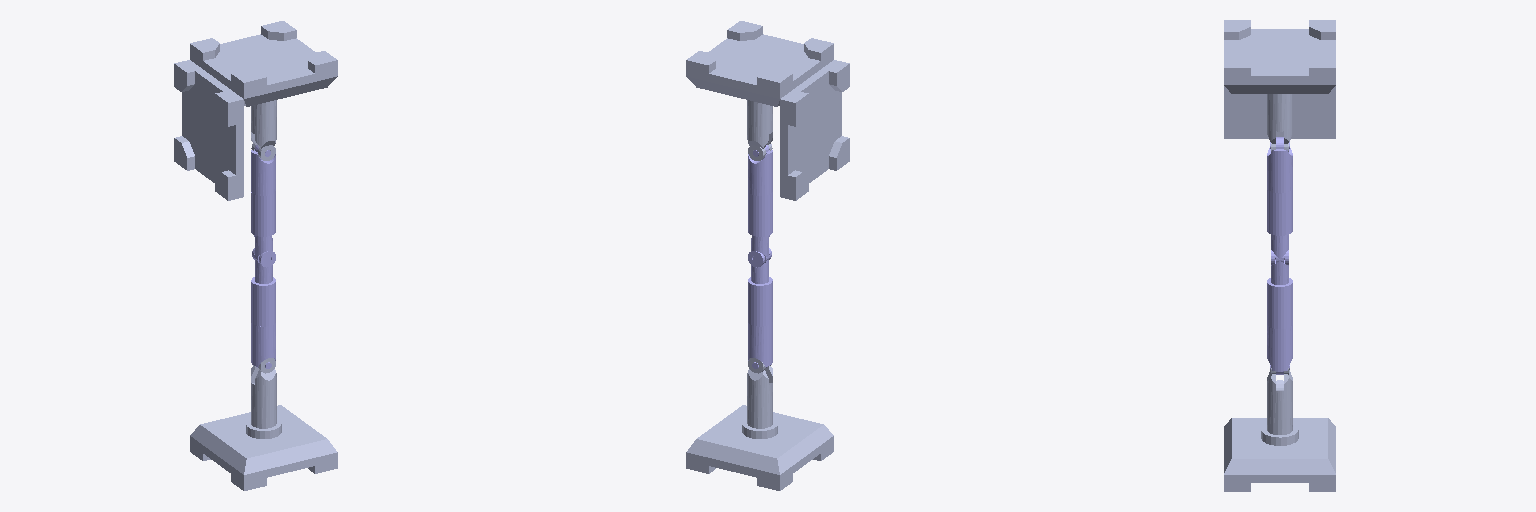
URDF robot description (carry_arm):
<?xml version="1.0" encoding="utf-8"?>
<!-- This URDF was automatically created by SolidWorks to URDF Exporter! Originally created by Stephen Brawner (brawner@gmail.com) 
     Commit Version: 1.6.0-4-g7f85cfe  Build Version: 1.6.7995.38578
     For more information, please see http://wiki.ros.org/sw_urdf_exporter -->
<robot
  name="carry_arm">
  <link name="dummy">
    <inertial>
      <origin xyz="0 0 0" rpy="0 0 0" />
      <mass value="1" />
      <inertia ixx="1e-9" ixy="0" ixz="0" iyy="1e-9" iyz="0" izz="1e-9" />
    </inertial>
  </link>
  <link
    name="arm0_link">
    <inertial>
      <origin
        xyz="-0.012377 -0.020974 0.016204"
        rpy="0 0 0" />
      <mass
        value="0.17426" />
      <inertia
        ixx="0.0002445"
        ixy="-7.8656E-22"
        ixz="9.2644E-20"
        iyy="0.0004811"
        iyz="8.1429E-19"
        izz="0.0002445" />
    </inertial>
    <visual>
      <origin
        xyz="0 0 0"
        rpy="0 0 0" />
      <geometry>
        <mesh
          filename="arm0_link.STL" />
      </geometry>
      <material
        name="">
        <color
          rgba="0.79216 0.81961 0.93333 1" />
      </material>
    </visual>
    <collision>
      <origin
        xyz="0 0 0"
        rpy="0 0 0" />
      <geometry>
        <mesh
          filename="arm0_link.STL" />
      </geometry>
    </collision>
  </link>
  <joint name="dymmy_joint" type="fixed"> 
    <origin
      xyz="0.012377 0.016204 0.014238"
      rpy="0 0 0" />
    <parent
      link="dummy" />
    <child
      link="arm0_link" />
  </joint>
  <link
    name="arm1_link">
    <inertial>
      <origin
        xyz="-1.259E-11 0.016476 2.6113E-11"
        rpy="0 0 0" />
      <mass
        value="0.2407" />
      <inertia
        ixx="0.00031084"
        ixy="1.0013E-13"
        ixz="8.9599E-12"
        iyy="0.00040073"
        iyz="-4.7186E-13"
        izz="0.0003106" />
    </inertial>
    <visual>
      <origin
        xyz="0 0 0"
        rpy="1.5708 0 0" />
      <geometry>
        <mesh
          filename="arm1_link.STL" />
      </geometry>
      <material
        name="">
        <color
          rgba="0.79216 0.81961 0.93333 1" />
      </material>
    </visual>
    <collision>
      <origin
        xyz="0 0 0"
        rpy="1.5708 0 0" />
      <geometry>
        <mesh
          filename="arm1_link.STL" />
      </geometry>
    </collision>
  </link>
  <joint
    name="arm1_joint"
    type="continuous">
    <origin
      xyz="-0.012377 -0.016204 -0.014238"
      rpy="0 0 0" />
    <parent
      link="arm0_link" />
    <child
      link="arm1_link" />
    <axis
      xyz="0 0 1" />
  </joint>
  <link
    name="arm2_link">
    <inertial>
      <origin
        xyz="3.7309E-05 0.059852 3.1191E-09"
        rpy="0 0 0" />
      <mass
        value="0.069332" />
      <inertia
        ixx="2.9097E-05"
        ixy="-9.6545E-08"
        ixz="-1.8985E-12"
        iyy="6.3303E-06"
        iyz="-5.3135E-12"
        izz="2.9192E-05" />
    </inertial>
    <visual>
      <origin
        xyz="0 0 0"
        rpy="1.5708 0 0" />
      <geometry>
        <mesh
          filename="arm2_link.STL" />
      </geometry>
      <material
        name="">
        <color
          rgba="0.75294 0.75294 1 1" />
      </material>
    </visual>
    <collision>
      <origin
        xyz="0 0 0"
        rpy="1.5708 0 0" />
      <geometry>
        <mesh
          filename="arm2_link.STL" />
      </geometry>
    </collision>
  </link>
  <joint
    name="arm2_joint"
    type="continuous">
    <origin
      xyz="0 0 0.1"
      rpy="0 0 0" />
    <parent
      link="arm1_link" />
    <child
      link="arm2_link" />
    <axis
      xyz="0 1 0" />
  </joint>
  <link
    name="arm3_link">
    <inertial>
      <origin
        xyz="-0.000482917389346194 -0.0696640474343872 2.71894506215231E-09"
        rpy="0 0 0" />
      <mass
        value="0.0698090885612059" />
      <inertia
        ixx="2.99472481620794E-05"
        ixy="-1.06390115585764E-07"
        ixz="-4.01944454880557E-13"
        iyy="6.20988850427198E-06"
        iyz="-4.49828166769348E-12"
        izz="3.01404678861509E-05" />
    </inertial>
    <visual>
      <origin
        xyz="0 0 0"
        rpy="-1.5708 0 0" />
      <geometry>
        <mesh
          filename="arm3_link.STL" />
      </geometry>
      <material
        name="">
        <color
          rgba="0.752941176470588 0.752941176470588 1 1" />
      </material>
    </visual>
    <collision>
      <origin
        xyz="0 0 0"
        rpy="-1.5708 0 0" />
      <geometry>
        <mesh
          filename="arm3_link.STL" />
      </geometry>
    </collision>
  </link>
  <joint
    name="arm3_joint"
    type="continuous">
    <origin
      xyz="0 0 0.13"
      rpy="0 0 0" />
    <parent
      link="arm2_link" />
    <child
      link="arm3_link" />
    <axis
      xyz="0 1 0" />
  </joint>
  <link
    name="arm4_link">
    <inertial>
      <origin
        xyz="-4.1672E-10 -0.083524 3.166E-10"
        rpy="0 0 0" />
      <mass
        value="0.2407" />
      <inertia
        ixx="0.00031084"
        ixy="4.8915E-12"
        ixz="9.0043E-12"
        iyy="0.00040073"
        iyz="-4.7032E-12"
        izz="0.0003106" />
    </inertial>
    <visual>
      <origin
        xyz="0 0 0"
        rpy="-1.5708 0 0" />
      <geometry>
        <mesh
          filename="arm4_link.STL" />
      </geometry>
      <material
        name="">
        <color
          rgba="0.79216 0.81961 0.93333 1" />
      </material>
    </visual>
    <collision>
      <origin
        xyz="0 0 0"
        rpy="-1.5708 0 0" />
      <geometry>
        <mesh
          filename="arm4_link.STL" />
      </geometry>
    </collision>
  </link>
  <joint
    name="arm4_joint"
    type="continuous">
    <origin
      xyz="0 0 0.13"
      rpy="0 0 0" />
    <parent
      link="arm3_link" />
    <child
      link="arm4_link" />
    <axis
      xyz="0 1 0" />
  </joint>
  <link
    name="arm5_link">
    <inertial>
      <origin
        xyz="2.7756E-17 -1.3878E-17 0.0067365"
        rpy="0 0 0" />
      <mass
        value="0.17426" />
      <inertia
        ixx="0.0002445"
        ixy="2.0581E-20"
        ixz="7.6233E-21"
        iyy="0.0002445"
        iyz="6.2281E-21"
        izz="0.0004811" />
    </inertial>
    <visual>
      <origin
        xyz="0 0 0"
        rpy="0 0 0" />
      <geometry>
        <mesh
          filename="arm5_link.STL" />
      </geometry>
      <material
        name="">
        <color
          rgba="0.79216 0.81961 0.93333 1" />
      </material>
    </visual>
    <collision>
      <origin
        xyz="0 0 0"
        rpy="0 0 0" />
      <geometry>
        <mesh
          filename="arm5_link.STL" />
      </geometry>
    </collision>
  </link>
  <joint
    name="arm5_joint"
    type="continuous">
    <origin
      xyz="0 0 0.1"
      rpy="0 0 0" />
    <parent
      link="arm4_link" />
    <child
      link="arm5_link" />
    <axis
      xyz="0 0 1" />
  </joint>
  <link
    name="arm6_link">
    <inertial>
      <origin
        xyz="0.06 0.06 0.0067365"
        rpy="0 0 0" />
      <mass
        value="0.17426" />
      <inertia
        ixx="0.0002445"
        ixy="-9.4869E-20"
        ixz="-1.2725E-20"
        iyy="0.0002445"
        iyz="1.2875E-19"
        izz="0.0004811" />
    </inertial>
    <visual>
      <origin
        xyz="0 0 0"
        rpy="0 0 0" />
      <geometry>
        <mesh
          filename="arm6_link.STL" />
      </geometry>
      <material
        name="">
        <color
          rgba="0.79216 0.81961 0.93333 1" />
      </material>
    </visual>
    <collision>
      <origin
        xyz="0 0 0"
        rpy="0 0 0" />
      <geometry>
        <mesh
          filename="arm6_link.STL" />
      </geometry>
    </collision>
  </link>
  <joint
    name="arm6_joint"
    type="continuous">
    <origin
      xyz="-0.06 0.06 0"
      rpy="0 1.5708 3.14159" />
    <parent
      link="arm5_link" />
    <child
      link="arm6_link" />
    <axis
      xyz="0 -1 0" />
  </joint>
</robot>

--- Render facts (derived) ---
3 views of the same robot in one strip: view 1: azimuth 30°, elevation 25°; view 2: azimuth 150°, elevation 25°; view 3: azimuth 270°, elevation 25° (orthographic).
Robot: carry_arm — 8 links, 7 joints (6 continuous, 1 fixed); root link dummy; default pose: every joint at zero.
Links seen in each view (by area): view 1: arm1_link, arm6_link, arm5_link, arm2_link, arm3_link, arm4_link, arm0_link; view 2: arm1_link, arm6_link, arm5_link, arm2_link, arm3_link, arm4_link, arm0_link; view 3: arm1_link, arm5_link, arm6_link, arm2_link, arm3_link, arm4_link, arm0_link.
Boxes of the visible links, <box> form: arm1_link: <box>190,358,336,474</box>; arm6_link: <box>174,60,243,200</box>; arm5_link: <box>190,21,337,98</box>; arm2_link: <box>251,248,275,368</box>; arm3_link: <box>251,145,275,262</box>; arm4_link: <box>244,76,337,160</box>; arm0_link: <box>190,436,337,490</box>; arm1_link: <box>687,358,833,474</box>; arm6_link: <box>780,60,849,200</box>; arm5_link: <box>686,21,833,98</box>; arm2_link: <box>748,248,772,368</box>; arm3_link: <box>748,145,772,262</box>; arm4_link: <box>686,76,779,160</box>; arm0_link: <box>686,436,833,490</box>; arm1_link: <box>1224,368,1335,474</box>; arm5_link: <box>1224,20,1335,84</box>; arm6_link: <box>1224,86,1335,138</box>; arm2_link: <box>1267,250,1292,374</box>; arm3_link: <box>1267,137,1292,262</box>; arm4_link: <box>1224,85,1335,151</box>; arm0_link: <box>1224,475,1335,491</box>.
Size in the robot's own frame: 0.14 by 0.12 by 0.5 metres.
7 mesh visuals loaded from 7 distinct referenced files (7 binary STL).
